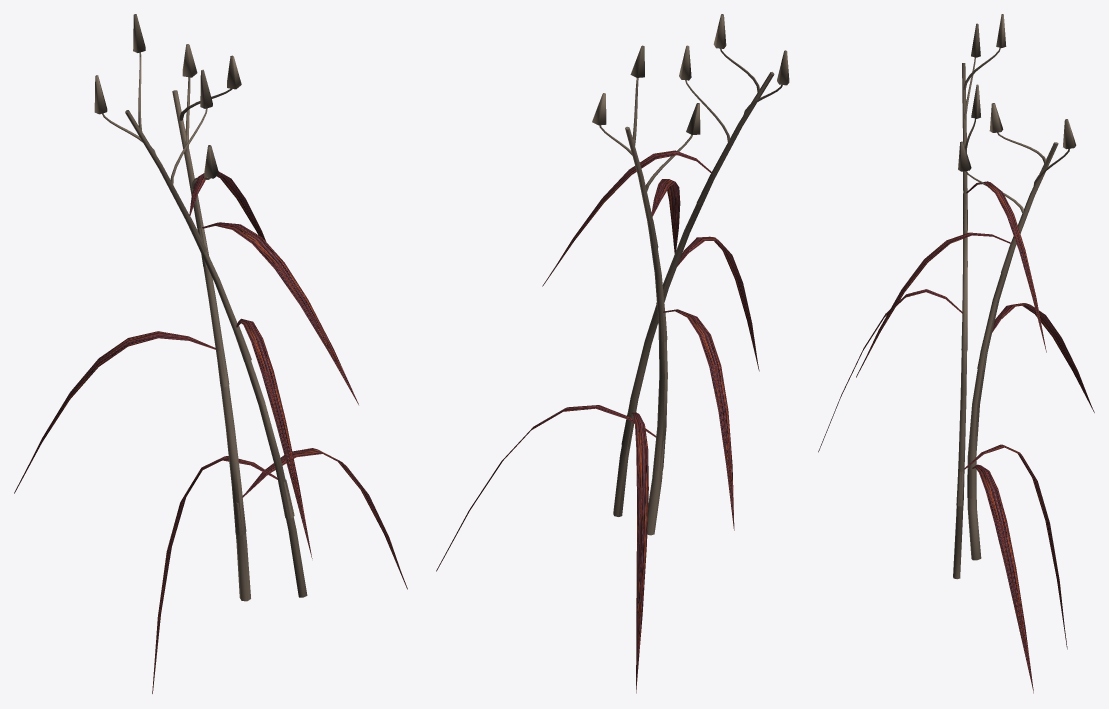
Rendered from dryshoots_00.glb.
3 views of the same model, side by side, from view 1: azimuth 30°, elevation 25°; view 2: azimuth 150°, elevation 25°; view 3: azimuth 270°, elevation 25° (orthographic). The views are drawn at different scales.
Parts seen in each view (by area): view 1: export; view 2: export; view 3: export.
Part boxes in pixels (x1,y1,x2,y2): export: [14, 14, 407, 693]; export: [436, 14, 789, 693]; export: [818, 14, 1094, 693].
Size of the model in its own units: 0.6856 by 1.32 by 0.5402.
2 materials, 2 textured.
